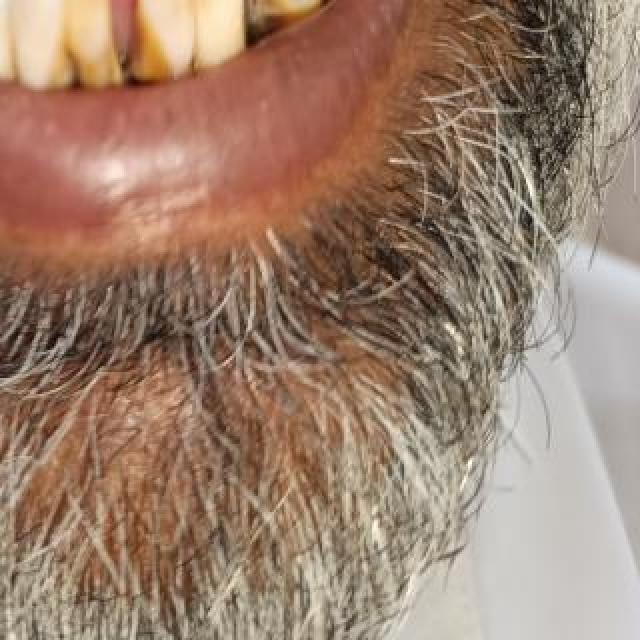calculus: (134, 0, 184, 82), (69, 24, 129, 90), (35, 38, 85, 94), (234, 0, 284, 42), (304, 0, 352, 18)
maligned: (46, 0, 118, 92), (6, 0, 78, 80), (124, 0, 188, 66)
spacing: (86, 0, 142, 72)
